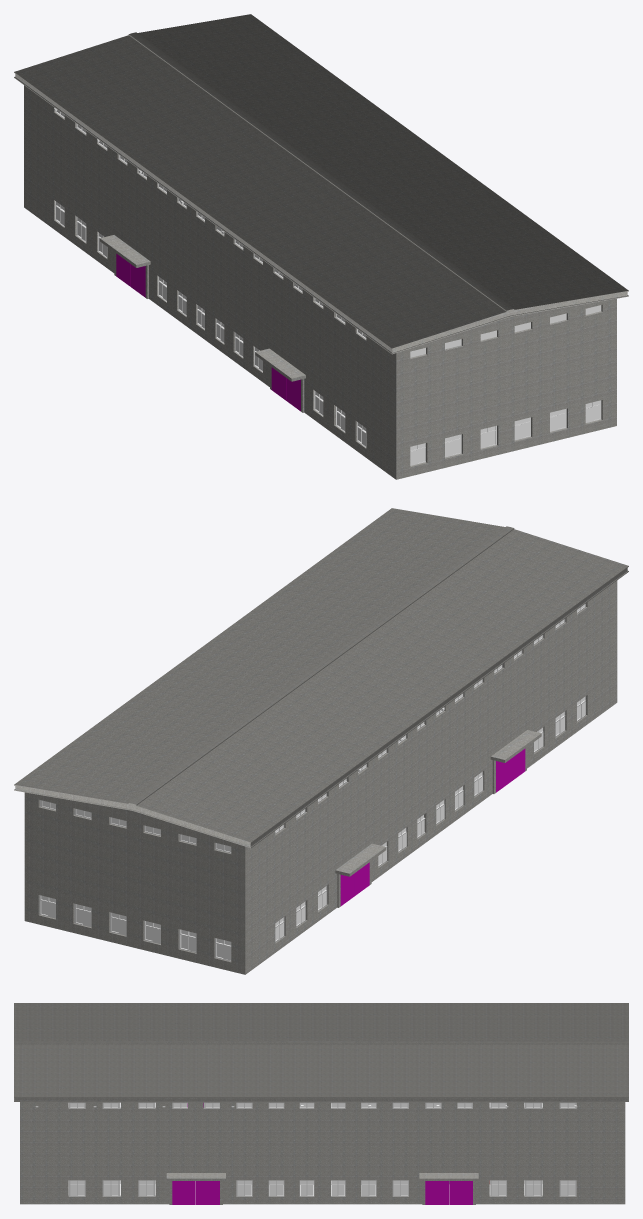
3 renders of one model, top to bottom at view 1: azimuth 30°, elevation 25°; view 2: azimuth 150°, elevation 25°; view 3: azimuth 270°, elevation 25°, orthographic. The views are drawn at different scales.
Visible parts, largest first — view 1: 墙体和屋顶, 窗户; view 2: 墙体和屋顶, 窗户; view 3: 墙体和屋顶, 窗户.
Boxes of the visible parts, bbox=[...] form: 墙体和屋顶: bbox=[14, 14, 628, 479]; 窗户: bbox=[55, 110, 601, 465]; 墙体和屋顶: bbox=[14, 508, 628, 974]; 窗户: bbox=[39, 603, 585, 961]; 墙体和屋顶: bbox=[14, 1003, 628, 1204]; 窗户: bbox=[69, 1102, 576, 1196].
Size of the model in its own units: 81.97 by 46.07 by 215.
10 materials, 1 textured.
